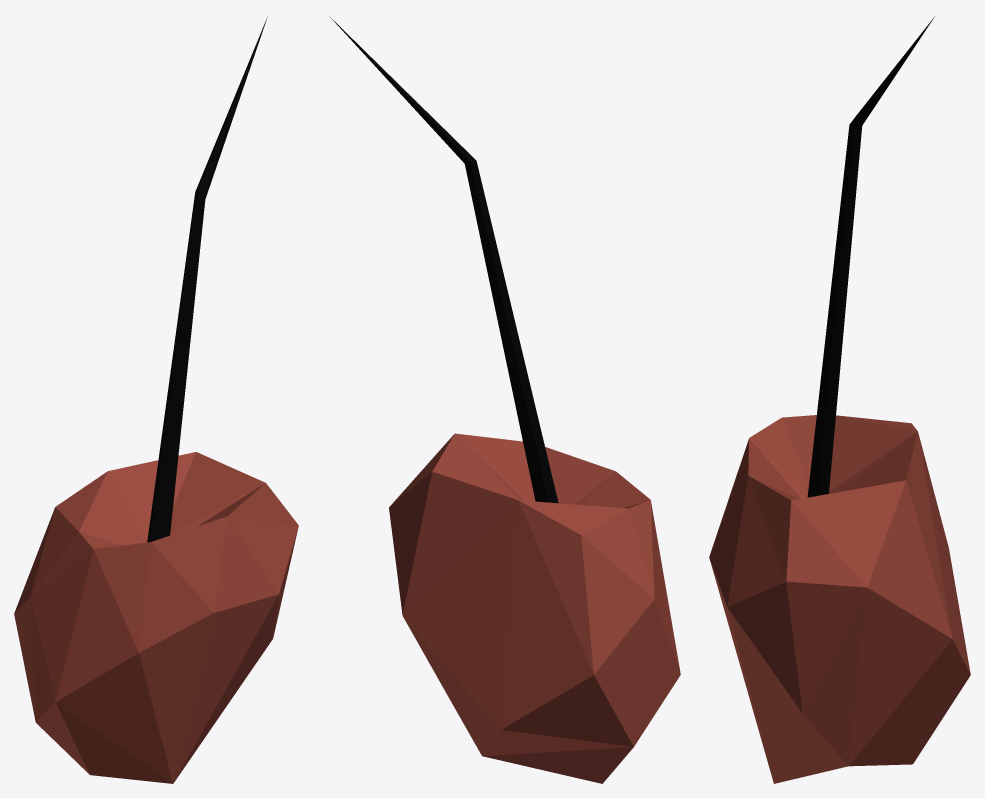
File: Cherry_fruit_1.fbx
3 renders of one model, left to right at view 1: azimuth 30°, elevation 25°; view 2: azimuth 150°, elevation 25°; view 3: azimuth 270°, elevation 25°, orthographic. The views are drawn at different scales.
Visible parts, largest first — view 1: Cherry_fruit; view 2: Cherry_fruit; view 3: Cherry_fruit.
Boxes of the visible parts, box(x1,y1,x2,y2) form: Cherry_fruit: box(14, 16, 298, 783); Cherry_fruit: box(329, 16, 680, 783); Cherry_fruit: box(709, 16, 970, 783).
Size of the model in its own units: 11.08 by 26.9 by 7.34.
